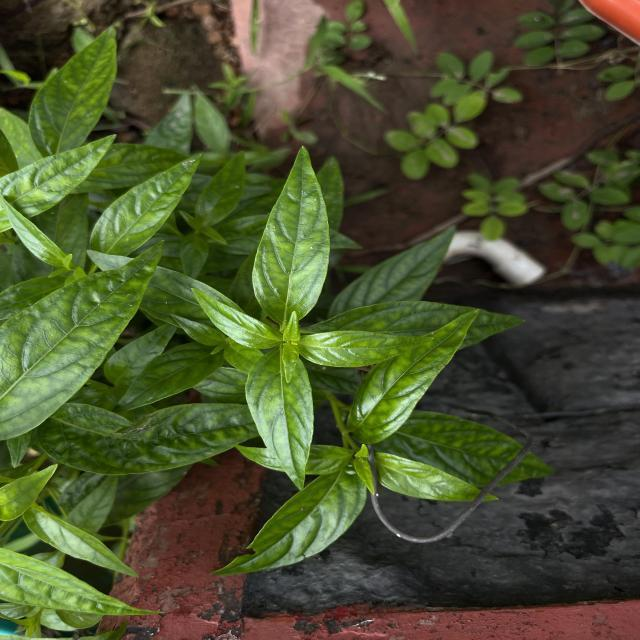Andrographis paniculata: (0, 238, 166, 442), (346, 307, 482, 446), (208, 468, 368, 577), (36, 402, 259, 476), (251, 144, 333, 326), (88, 150, 207, 258), (328, 224, 457, 319), (28, 24, 118, 158), (0, 133, 118, 235), (0, 546, 166, 618), (244, 346, 316, 491), (21, 505, 140, 579), (111, 344, 223, 416), (375, 451, 499, 504), (190, 287, 284, 350), (299, 328, 435, 370), (197, 148, 247, 224)
